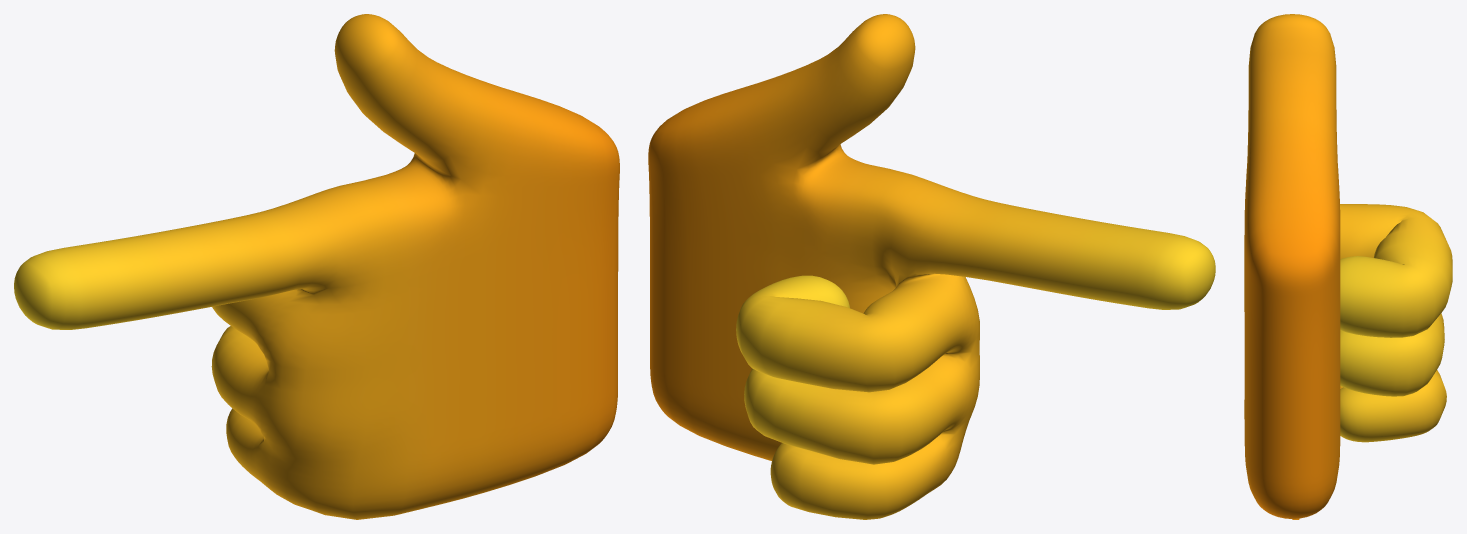
File: backhand_index_pointing_left.glb
3 views of the same model, side by side, from view 1: azimuth 30°, elevation 25°; view 2: azimuth 150°, elevation 25°; view 3: azimuth 270°, elevation 25° (orthographic). The views are drawn at different scales.
Visible parts, largest first — view 1: Cube.093; view 2: Cube.093; view 3: Cube.093.
Part boxes in pixels (<box>): Cube.093: <box>14,14,619,519</box>; Cube.093: <box>648,14,1215,519</box>; Cube.093: <box>1244,14,1452,519</box>.
Size of the model in its own units: 1.78 by 1.42 by 0.6223.
Materials: 2 (2 with a texture image).
